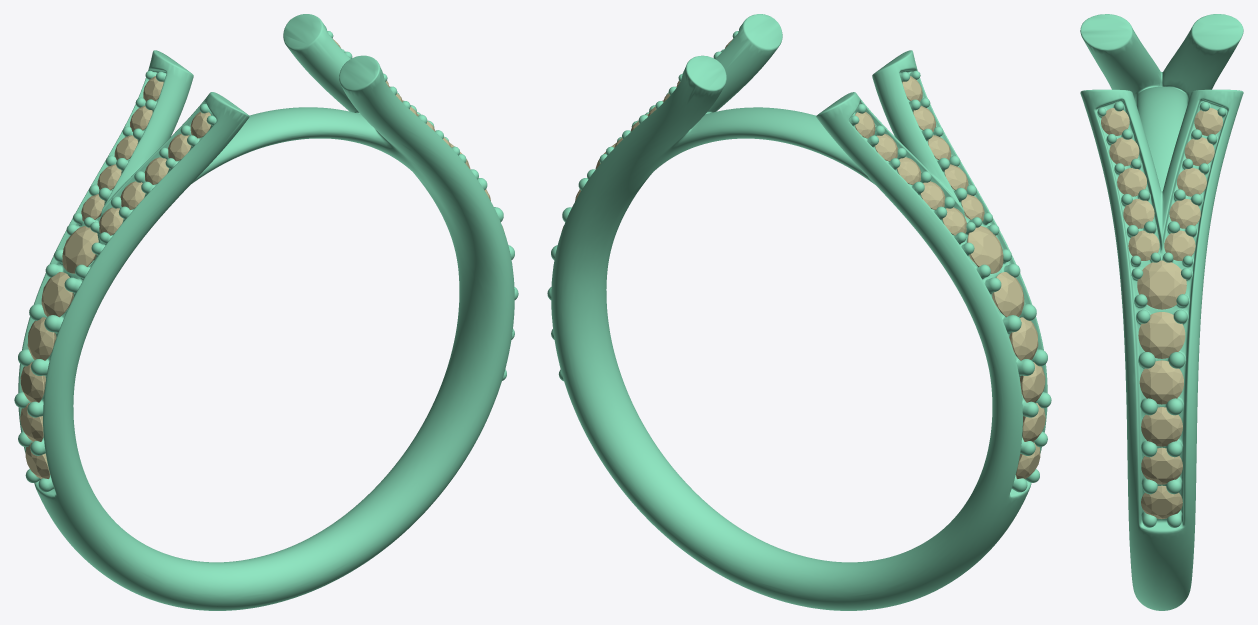
The picture shows the model from 3 angles, left to right: view 1: azimuth 30°, elevation 25°; view 2: azimuth 150°, elevation 25°; view 3: azimuth 270°, elevation 25°; orthographic projection. The views are drawn at different scales.
Visible parts, largest first — view 1: Metal02, Diamond_Gem.015, Diamond_Gem.008, Diamond_Gem.007, Diamond_Gem.004; view 2: Metal02, Diamond_Gem.015, Diamond_Gem.008, Diamond_Gem.007, Diamond_Gem.004; view 3: Metal02, Diamond_Gem.016, Diamond_Gem.023, Diamond_Gem.024, Diamond_Gem.027, Diamond_Gem.026, Diamond_Gem.025, Diamond_Gem.017, Diamond_Gem.020, Diamond_Gem.019, Diamond_Gem.018, Diamond_Gem.030 (+5 smaller).
Part boxes in pixels (box(x1,y1,x2,y2)): Metal02: box(14, 14, 518, 610); Diamond_Gem.015: box(62, 226, 98, 273); Diamond_Gem.008: box(41, 272, 73, 317); Diamond_Gem.007: box(27, 317, 56, 360); Diamond_Gem.004: box(20, 362, 45, 402); Metal02: box(547, 14, 1051, 610); Diamond_Gem.015: box(967, 226, 1003, 273); Diamond_Gem.008: box(992, 272, 1024, 317); Diamond_Gem.007: box(1009, 317, 1038, 360); Diamond_Gem.004: box(1020, 362, 1045, 402); Metal02: box(1080, 14, 1243, 610); Diamond_Gem.016: box(1137, 260, 1186, 309); Diamond_Gem.023: box(1138, 312, 1185, 358); Diamond_Gem.024: box(1139, 360, 1183, 404); Diamond_Gem.027: box(1141, 407, 1182, 446); Diamond_Gem.026: box(1141, 447, 1182, 484); Diamond_Gem.025: box(1141, 485, 1182, 519); Diamond_Gem.017: box(1123, 199, 1154, 228); Diamond_Gem.020: box(1169, 199, 1200, 228); Diamond_Gem.019: box(1164, 230, 1195, 260); Diamond_Gem.018: box(1128, 230, 1159, 260); Diamond_Gem.030: box(1117, 168, 1146, 196).
Size of the model in its own units: 21.19 by 22.55 by 6.25.
